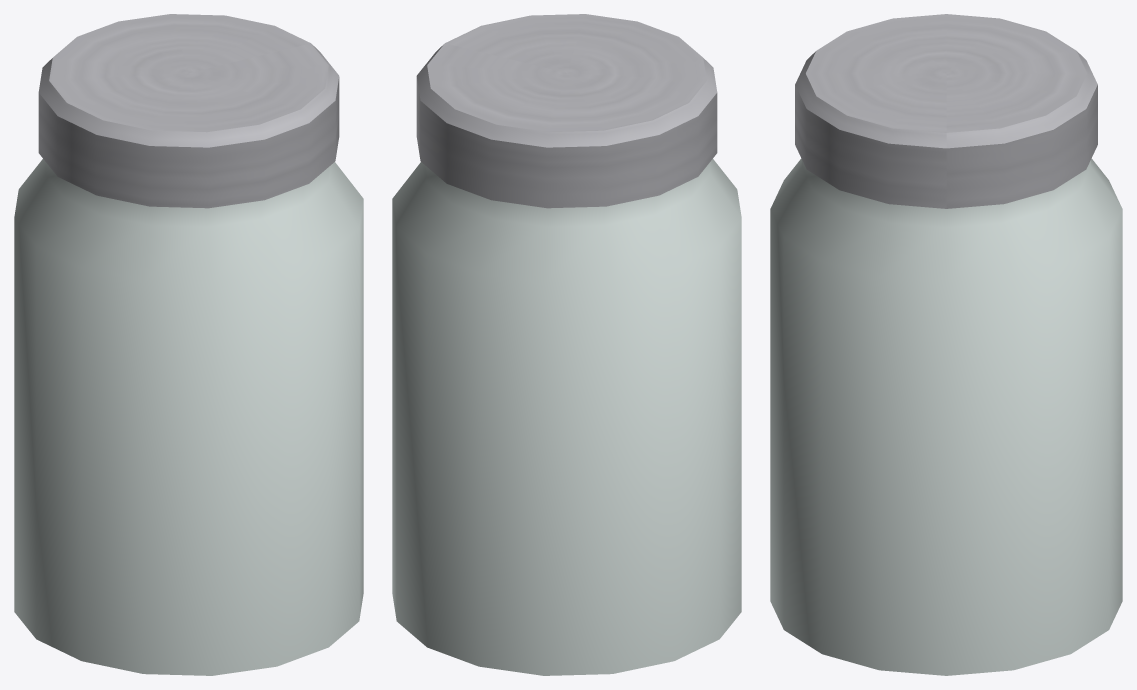
Rendered from SM_Jar_L_Pickle.fbx.
The picture shows the model from 3 angles, left to right: view 1: azimuth 30°, elevation 25°; view 2: azimuth 150°, elevation 25°; view 3: azimuth 270°, elevation 25°; orthographic projection.
Parts seen in each view (by area): view 1: SM_Jar_L_Pickle; view 2: SM_Jar_L_Pickle; view 3: SM_Jar_L_Pickle.
Boxes of the visible parts, bbox=[...] form: SM_Jar_L_Pickle: bbox=[14, 14, 363, 675]; SM_Jar_L_Pickle: bbox=[392, 14, 741, 675]; SM_Jar_L_Pickle: bbox=[770, 14, 1122, 675].
Bounding box in the file's own units: 0.116 × 0.192 × 0.116.
Materials: 3 (3 with a texture image).
